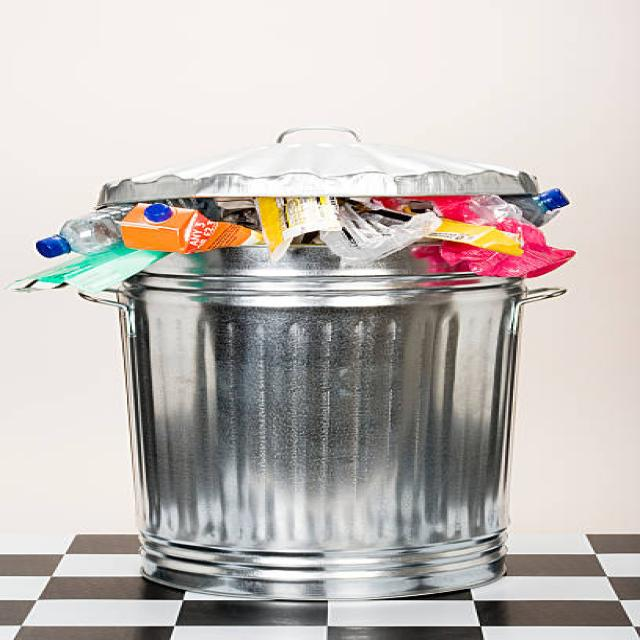cardboard: (121, 206, 218, 254)
plastic: (41, 205, 118, 258)
trash: (253, 196, 596, 326)
